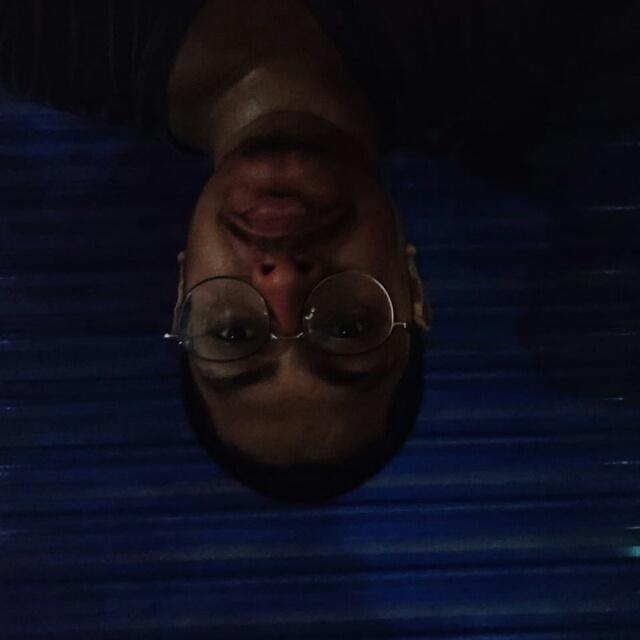Sad: (170, 120, 462, 538)
